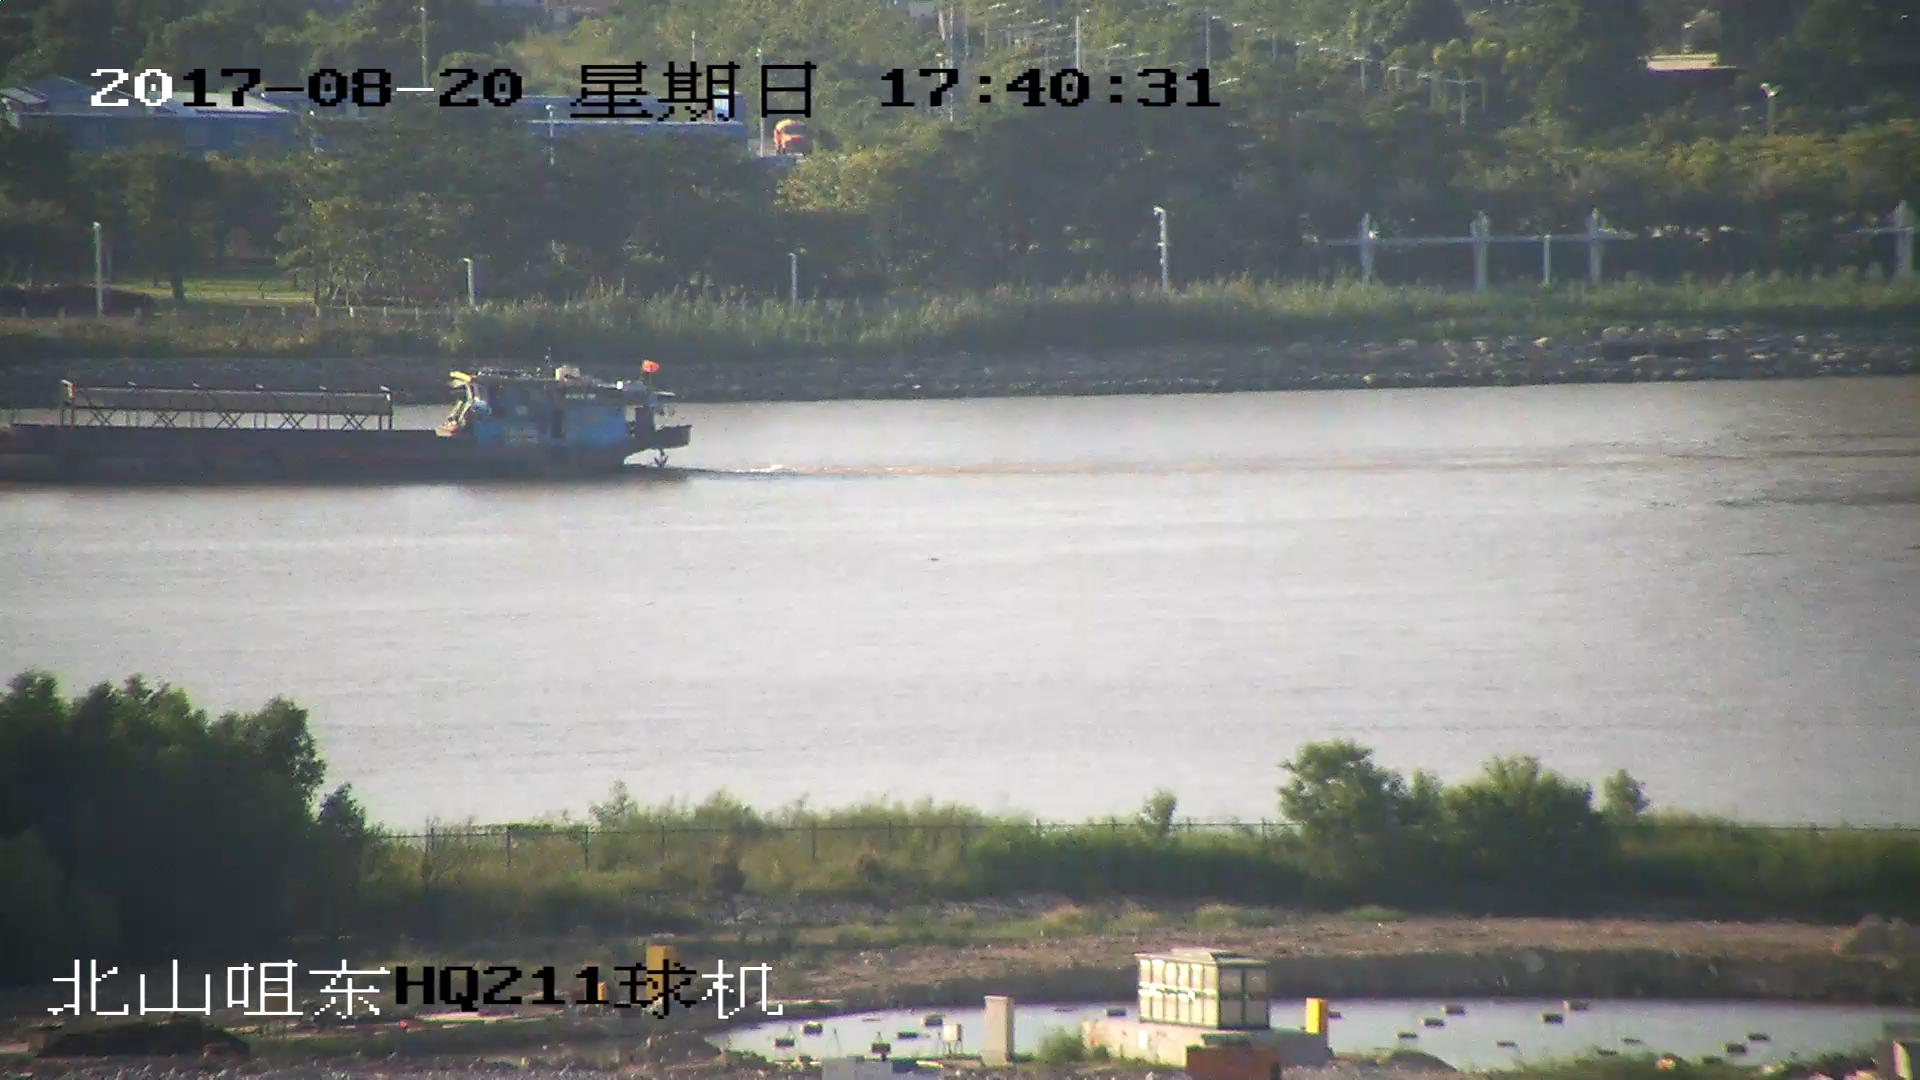fishing boat: (1, 365, 690, 489)
